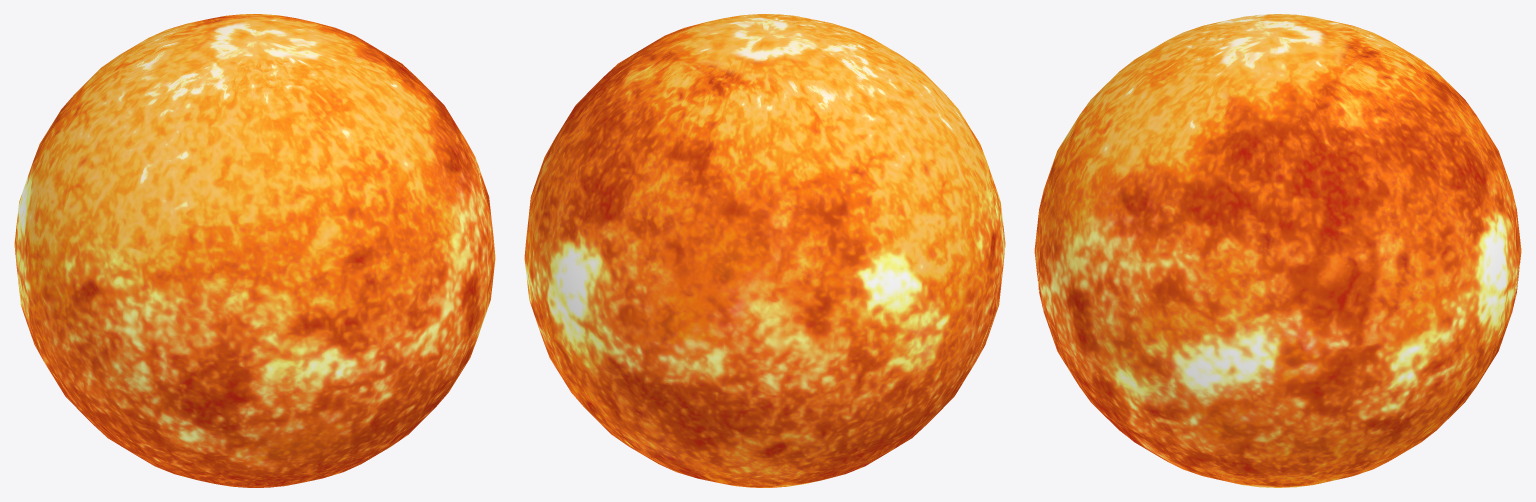
The model's file is sun.glb.
3 renders of one model, left to right at view 1: azimuth 30°, elevation 25°; view 2: azimuth 150°, elevation 25°; view 3: azimuth 270°, elevation 25°, orthographic.
Parts seen in each view (by area): view 1: Sphere; view 2: Sphere; view 3: Sphere.
Boxes of the visible parts, x1,y1,x2,y2 form: Sphere: (14, 14, 495, 487); Sphere: (524, 14, 1005, 487); Sphere: (1034, 14, 1521, 487).
Bounding box in the file's own units: 9.6 × 9.45 × 9.73.
Materials: 1 (1 with a texture image).
